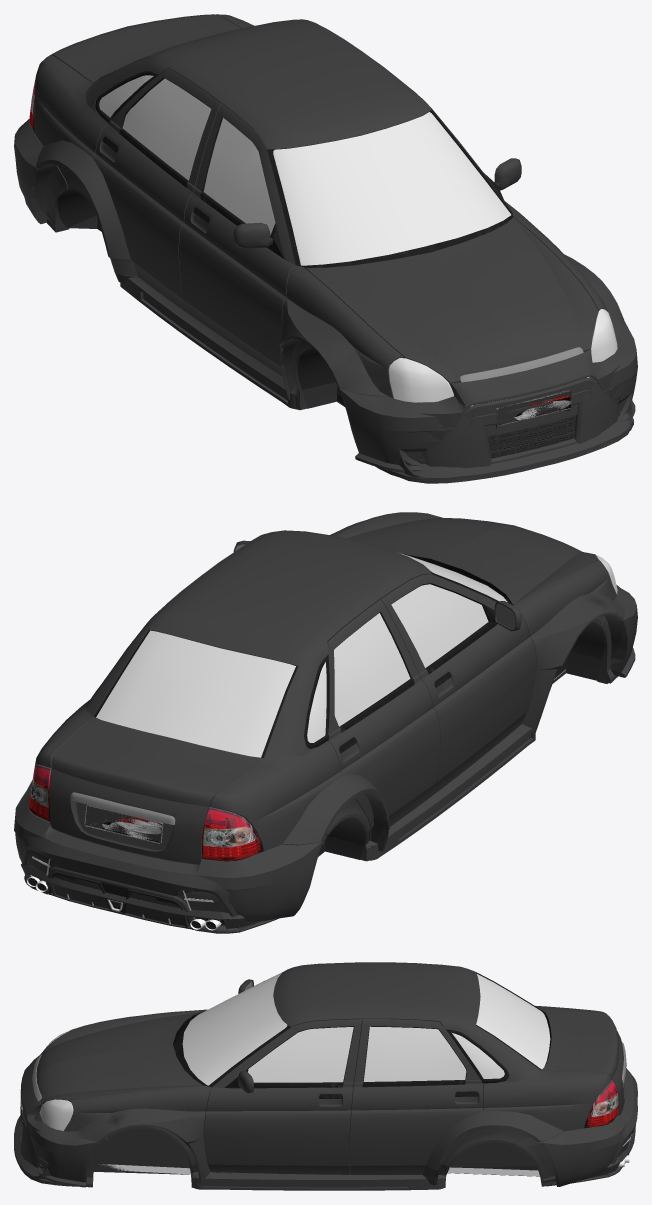
File: Brichka.fbx
3 renders of one model, top to bottom at view 1: azimuth 30°, elevation 25°; view 2: azimuth 150°, elevation 25°; view 3: azimuth 270°, elevation 25°, orthographic. The views are drawn at different scales.
Parts seen in each view (by area): view 1: body, window, kit01_body, kit04_body, static_objects, kit02_body, kit03_body, kit02_objects, front_lights_glass, kit03_objects, kit04_objects, standart_objects; view 2: body, window, kit04_body, kit01_body, static_objects, kit03_body, kit02_objects, standart_objects, kit04_objects, kit02_body, kit03_objects; view 3: body, kit04_body, window, kit01_body, static_objects, kit04_objects, kit03_body, kit02_body, kit01_objects, front_lights_glass, kit02_objects.
Boxes of the visible parts, x1,y1,x2,y2 form: body: [29, 14, 618, 456]; window: [99, 75, 511, 265]; kit01_body: [34, 16, 633, 481]; kit04_body: [14, 112, 637, 472]; static_objects: [29, 56, 583, 382]; kit02_body: [46, 177, 632, 483]; kit03_body: [55, 209, 612, 426]; kit02_objects: [68, 215, 633, 478]; front_lights_glass: [389, 308, 617, 402]; kit03_objects: [57, 189, 569, 435]; kit04_objects: [34, 164, 571, 425]; standart_objects: [337, 390, 575, 447]; body: [27, 512, 617, 911]; window: [96, 553, 507, 757]; kit04_body: [14, 544, 637, 921]; kit01_body: [24, 520, 619, 932]; static_objects: [29, 544, 515, 861]; kit03_body: [22, 643, 606, 933]; kit02_objects: [25, 652, 601, 930]; standart_objects: [84, 622, 604, 844]; kit04_objects: [84, 614, 622, 845]; kit02_body: [21, 621, 611, 928]; kit03_objects: [45, 662, 566, 929]; body: [21, 962, 634, 1175]; kit04_body: [19, 980, 631, 1187]; window: [182, 973, 550, 1085]; kit01_body: [14, 993, 630, 1187]; static_objects: [32, 972, 626, 1128]; kit04_objects: [20, 1083, 623, 1169]; kit03_body: [20, 1055, 637, 1190]; kit02_body: [14, 1055, 631, 1187]; kit01_objects: [22, 1108, 631, 1176]; front_lights_glass: [39, 1030, 73, 1130]; kit02_objects: [20, 1089, 635, 1176].
Bounding box in the file's own units: 1.67 × 1.24 × 4.32.
Materials: 8 (5 with a texture image).
